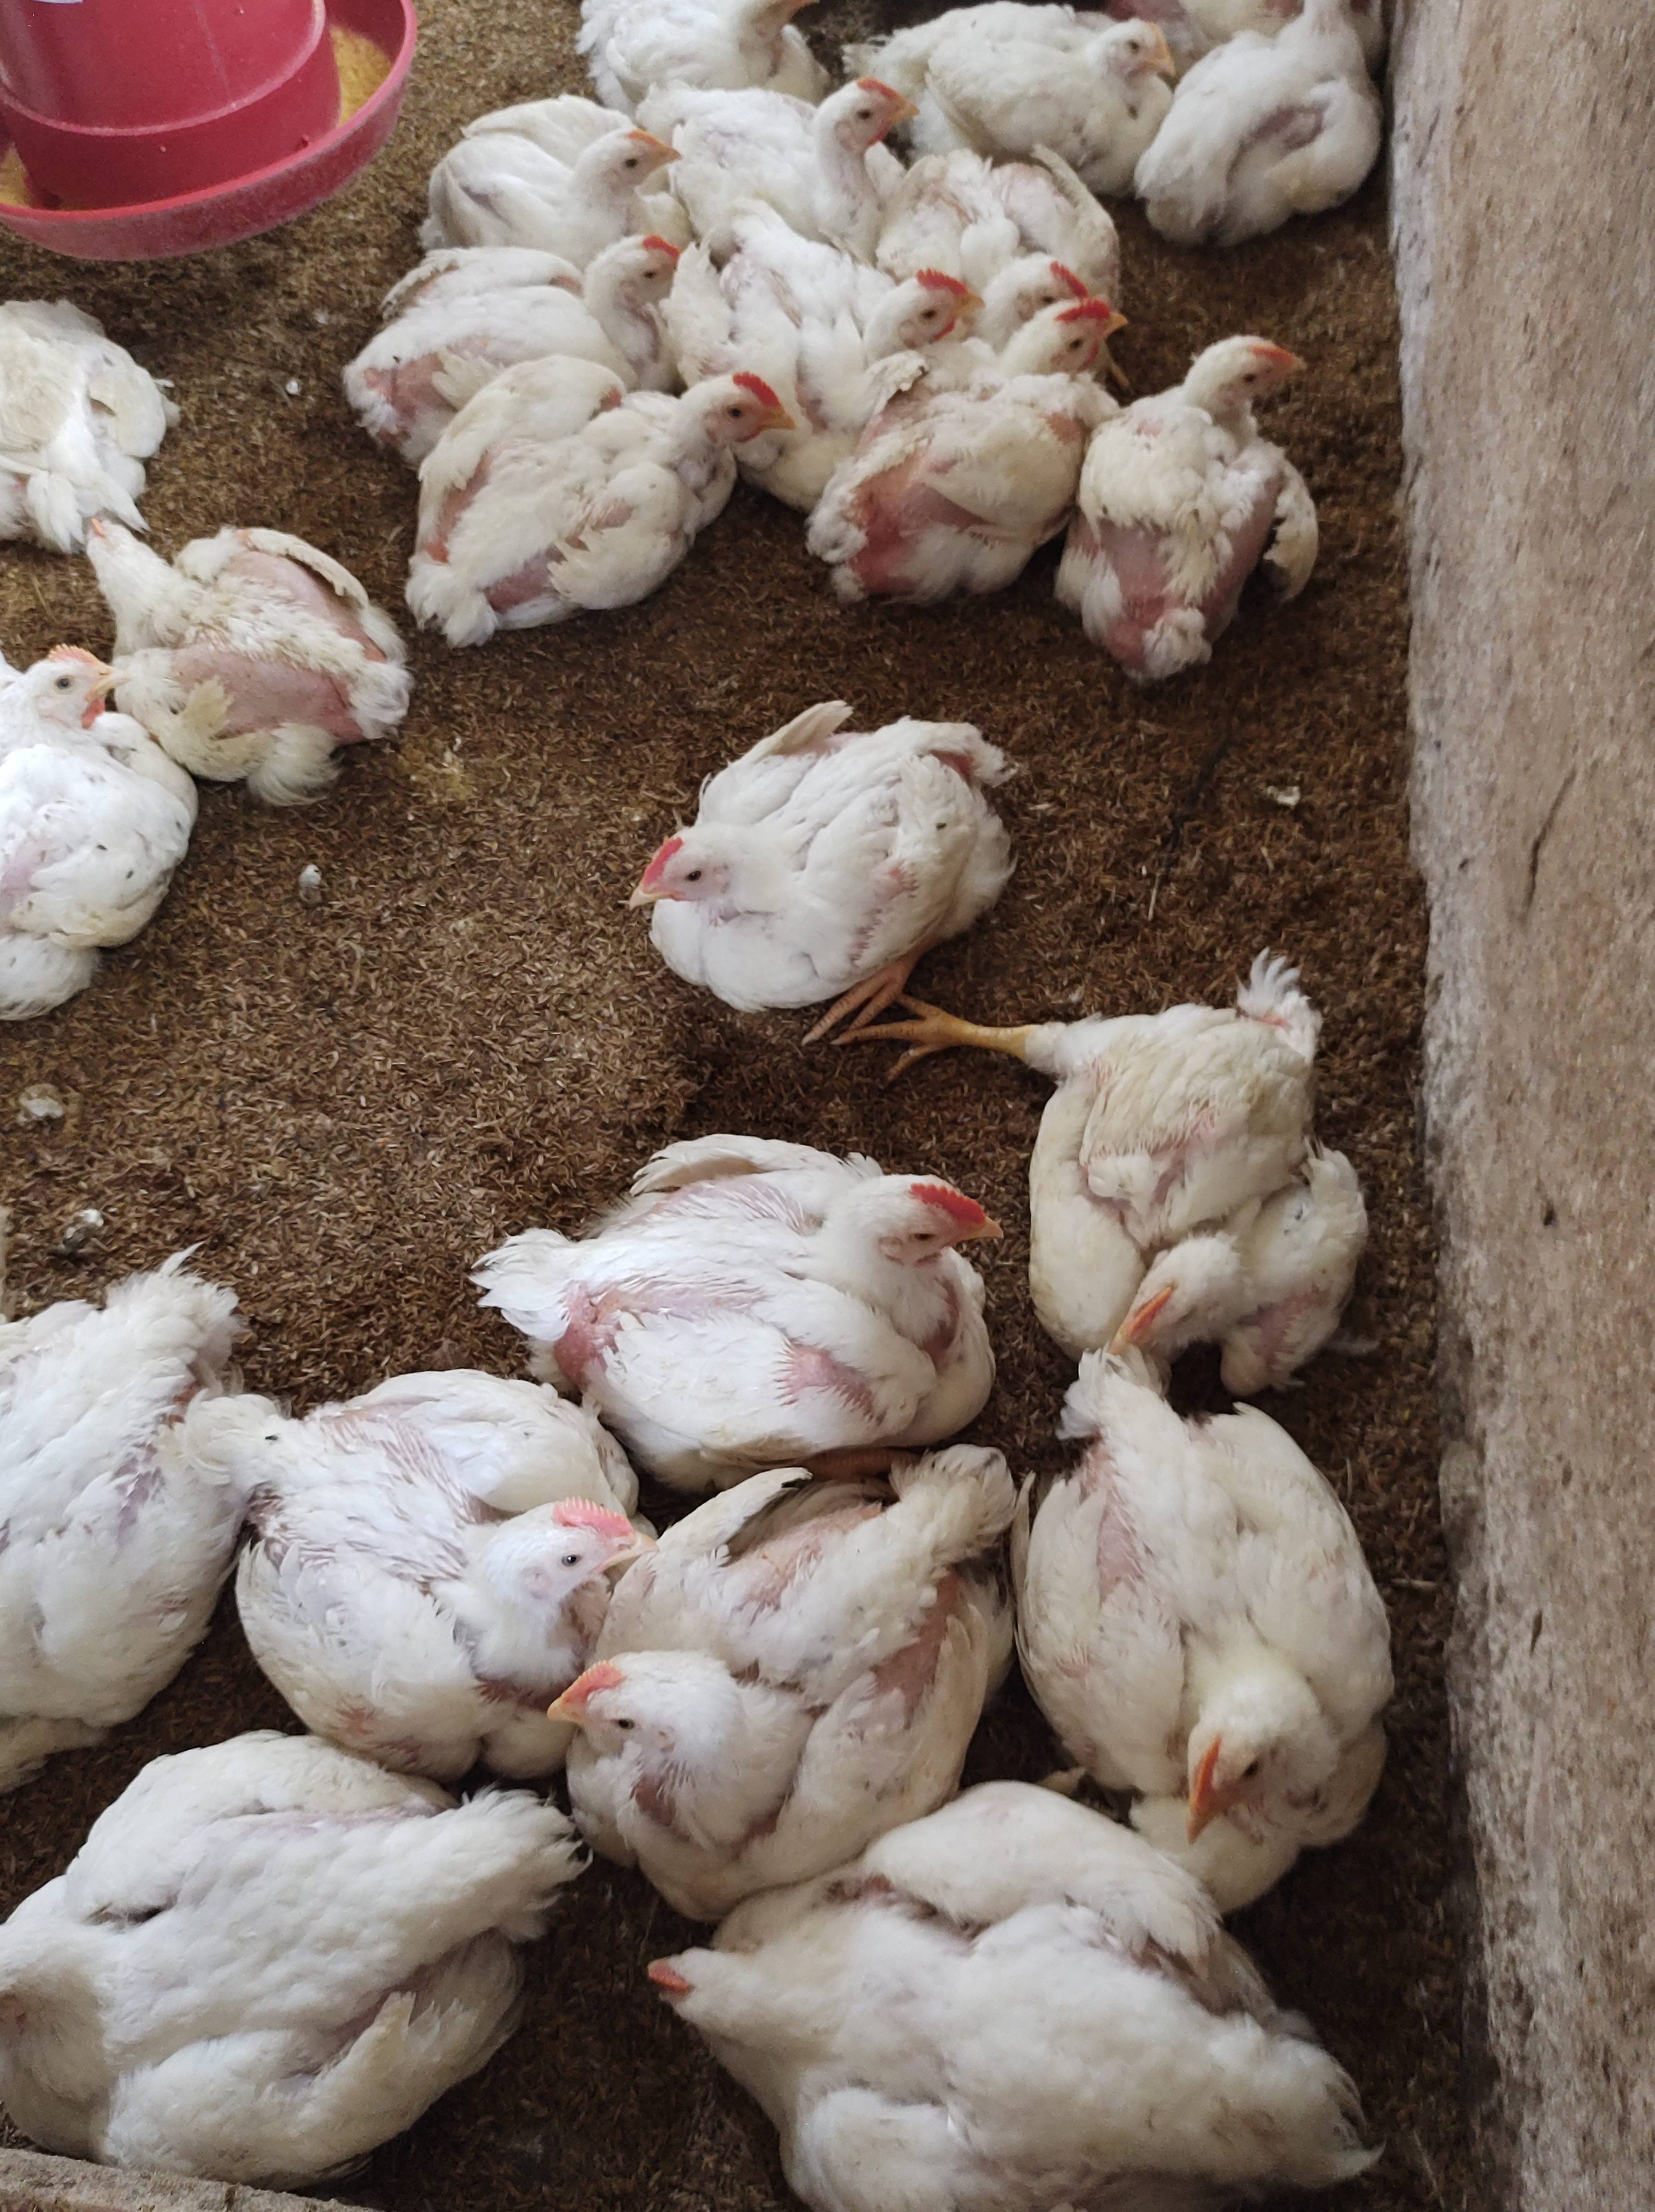Pollos: (0, 1737, 581, 2169), (638, 1897, 1366, 2212), (565, 1456, 1080, 1878), (1036, 1407, 1415, 1854), (245, 1349, 633, 1762), (527, 1125, 1022, 1436), (1007, 984, 1424, 1349), (605, 723, 1012, 1068), (0, 1233, 264, 1746), (412, 360, 801, 659), (1076, 323, 1328, 680), (0, 640, 216, 1035), (103, 513, 422, 776), (1140, 0, 1375, 256), (0, 290, 193, 565), (393, 230, 721, 388), (979, 2, 1194, 170), (440, 127, 688, 245), (753, 70, 928, 219), (963, 290, 1137, 433), (840, 261, 994, 358), (984, 217, 1097, 337)
